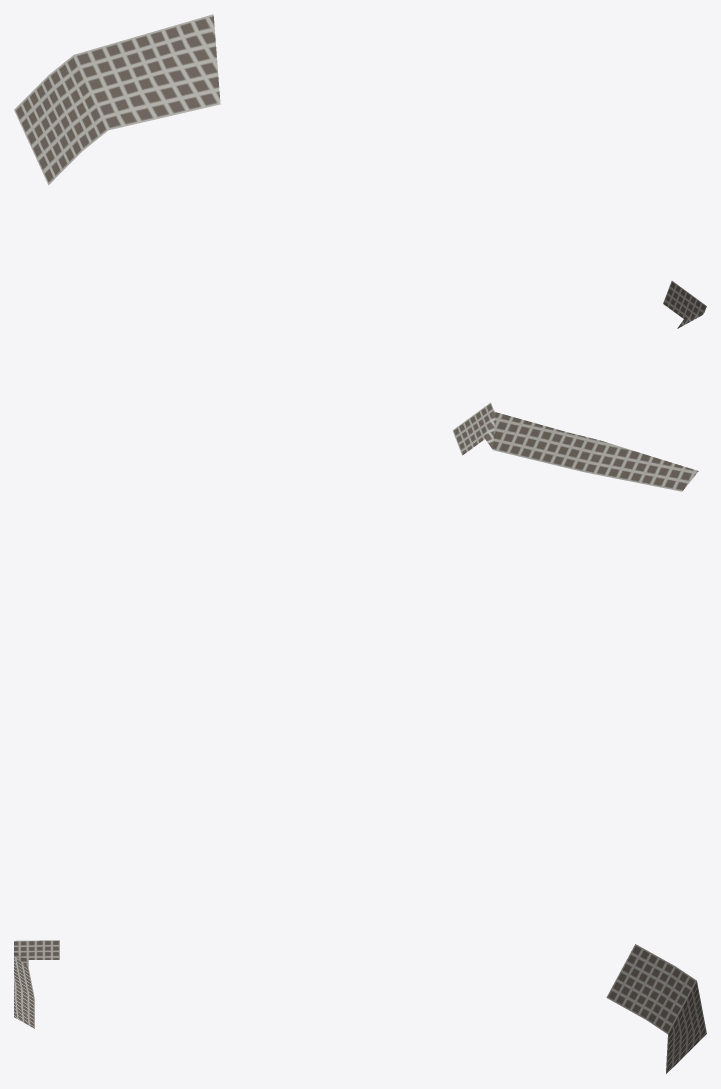
The model's file is kd_connection_town-ground_surface_2_27.glb.
3 renders of one model, top to bottom at view 1: azimuth 30°, elevation 25°; view 2: azimuth 150°, elevation 25°; view 3: azimuth 270°, elevation 25°, orthographic. The views are drawn at different scales.
Parts seen in each view (by area): view 1: kd_connection_town-ground_surface_2_27; view 2: kd_connection_town-ground_surface_2_27; view 3: kd_connection_town-ground_surface_2_27.
Boxes of the visible parts, box(x1,y1,x2,y2) form: kd_connection_town-ground_surface_2_27: box(14, 14, 706, 328); kd_connection_town-ground_surface_2_27: box(452, 402, 698, 491); kd_connection_town-ground_surface_2_27: box(14, 940, 706, 1073).
Bounding box in the file's own units: 68.29 × 25.3 × 200.
1 material, 1 textured.
